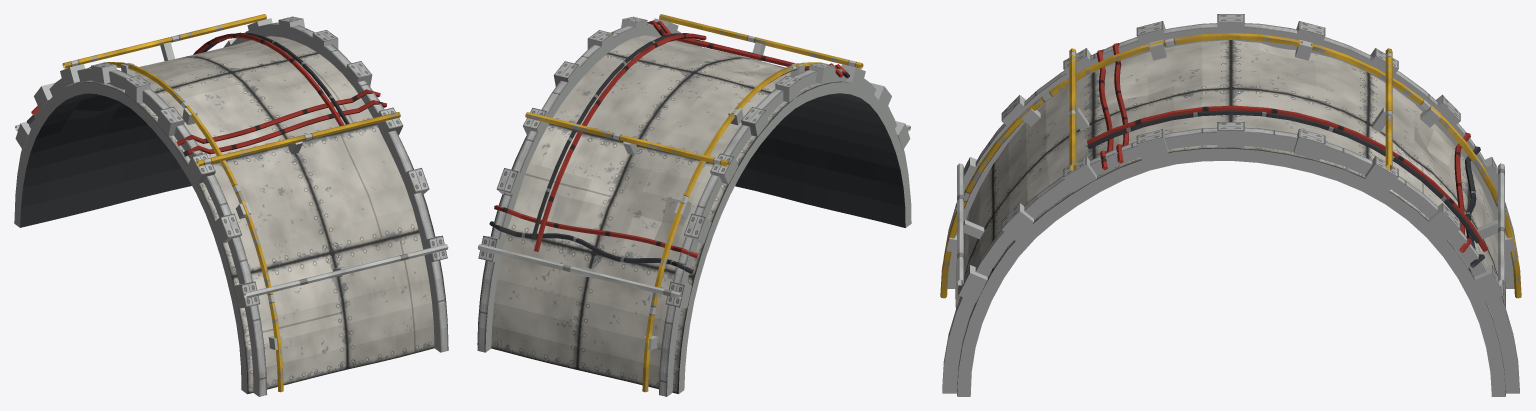
The model's file is hull_plain_white.fbx.
The picture shows the model from 3 angles, left to right: view 1: azimuth 30°, elevation 25°; view 2: azimuth 150°, elevation 25°; view 3: azimuth 270°, elevation 25°; orthographic projection. The views are drawn at different scales.
Parts seen in each view (by area): view 1: hull_plain_white; view 2: hull_plain_white; view 3: hull_plain_white.
Boxes of the visible parts, bbox=[...] form: hull_plain_white: bbox=[14, 14, 448, 396]; hull_plain_white: bbox=[477, 14, 911, 396]; hull_plain_white: bbox=[940, 14, 1521, 396].
Bounding box in the file's own units: 1.01 × 1.07 × 2.11.
1 material, 1 textured.
